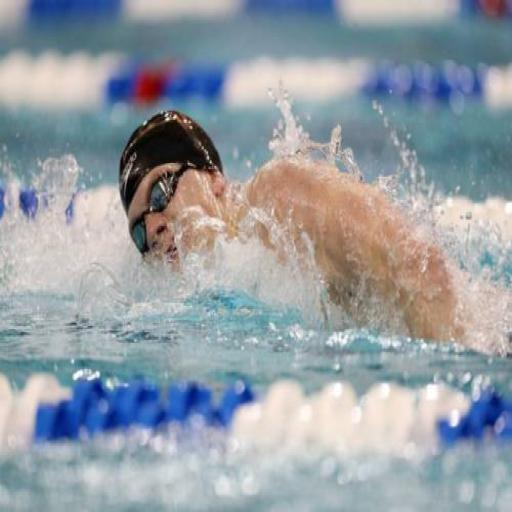swimming: (115, 108, 511, 361)
